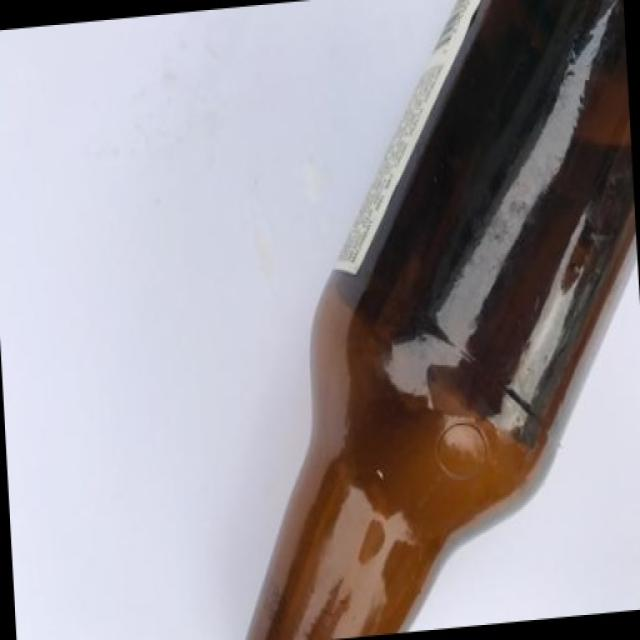vidrio: (119, 1, 640, 640)
